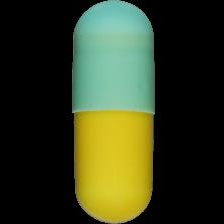54868-2463: (0, 0, 224, 224)
